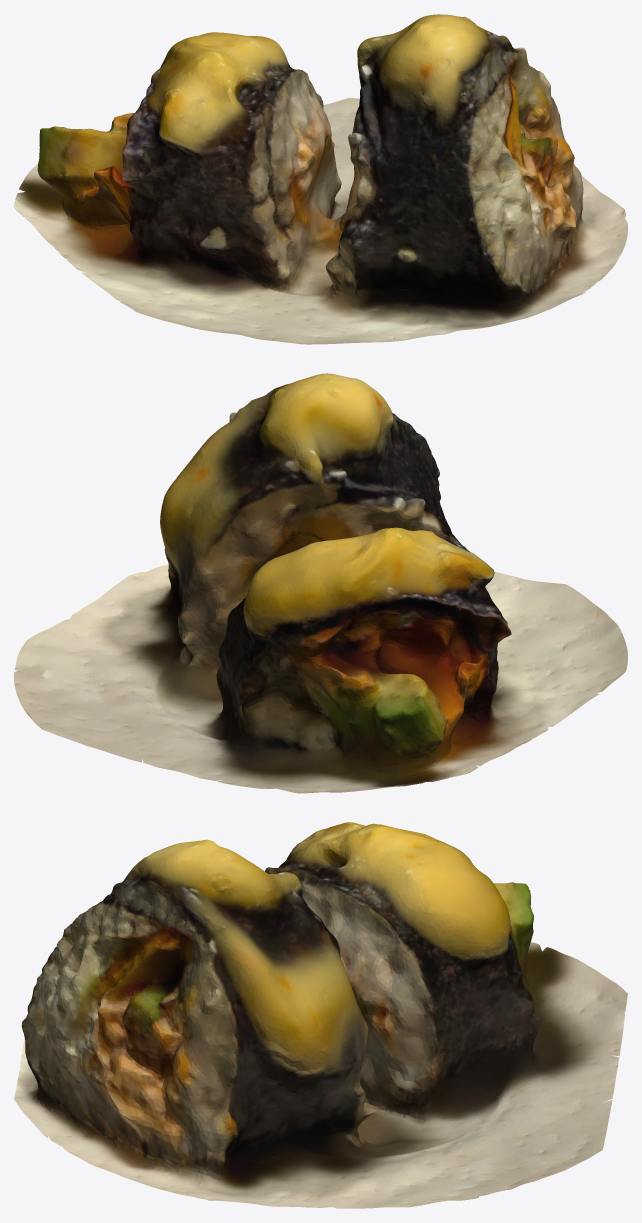
The model's file is 28 kwi o 9_03ÔÇ»PM (1).glb.
The picture shows the model from 3 angles, top to bottom: view 1: azimuth 30°, elevation 25°; view 2: azimuth 150°, elevation 25°; view 3: azimuth 270°, elevation 25°; orthographic projection. The views are drawn at different scales.
Size of the model in its own units: 0.114 by 0.0571 by 0.1121.
Materials: 1 (1 with a texture image).
